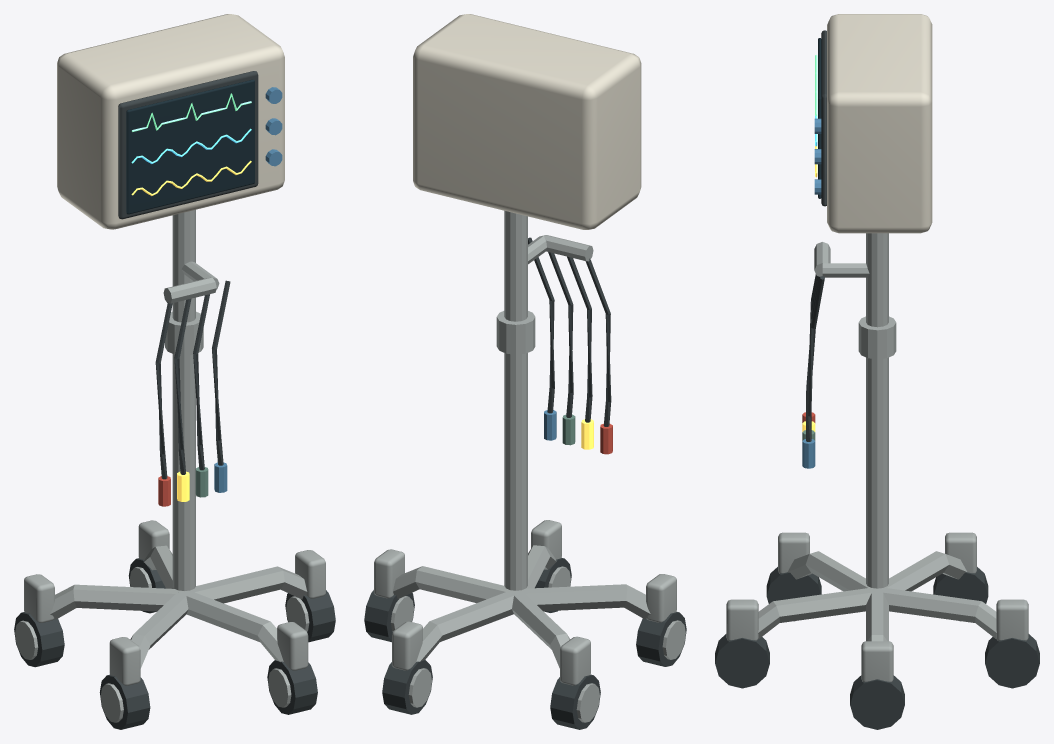
The model's file is patient_monitor_starter.glb.
The picture shows the model from 3 angles, left to right: view 1: azimuth 30°, elevation 25°; view 2: azimuth 150°, elevation 25°; view 3: azimuth 270°, elevation 25°; orthographic projection. The views are drawn at different scales.
Visible parts, largest first — view 1: MOVING_PIVOT_monitor_tilt, STATIC_patient_monitor_starter; view 2: STATIC_patient_monitor_starter, MOVING_PIVOT_monitor_tilt; view 3: STATIC_patient_monitor_starter, MOVING_PIVOT_monitor_tilt.
Part boxes in pixels (x1,y1,x2,y2): MOVING_PIVOT_monitor_tilt: (57, 14, 284, 229); STATIC_patient_monitor_starter: (14, 209, 335, 729); STATIC_patient_monitor_starter: (364, 210, 686, 729); MOVING_PIVOT_monitor_tilt: (413, 14, 641, 229); STATIC_patient_monitor_starter: (715, 233, 1039, 729); MOVING_PIVOT_monitor_tilt: (814, 14, 932, 233).
Bounding box in the file's own units: 0.6238 × 1.46 × 0.7097.
